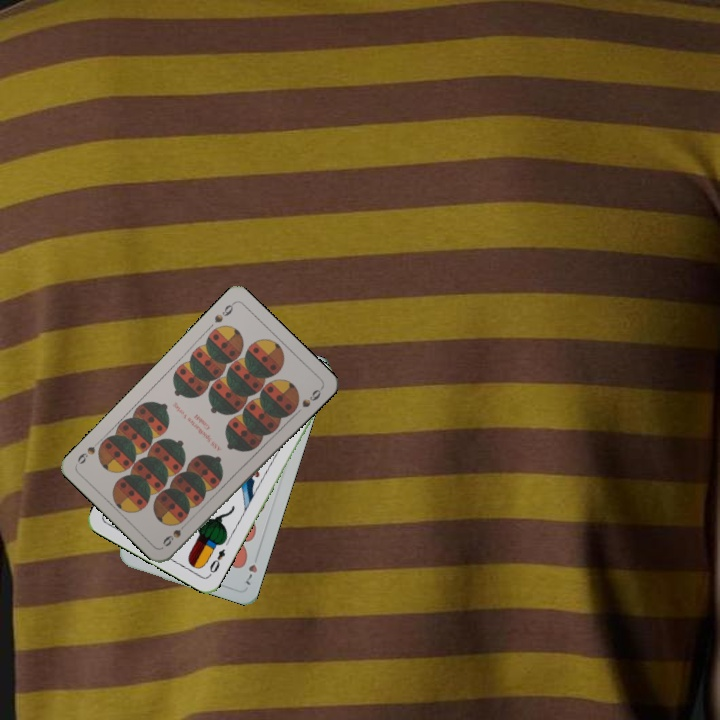EO: (205, 545, 228, 578)
H7: (241, 560, 260, 588)
S9: (159, 517, 191, 549), (210, 299, 237, 325)
